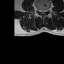CCS_stenosis: (41, 7, 43, 15)
LFS_normal: (45, 7, 47, 13)
LLS_normal: (43, 8, 45, 15)
RFS_normal: (37, 7, 39, 14)
RLS_normal: (39, 7, 41, 14)
